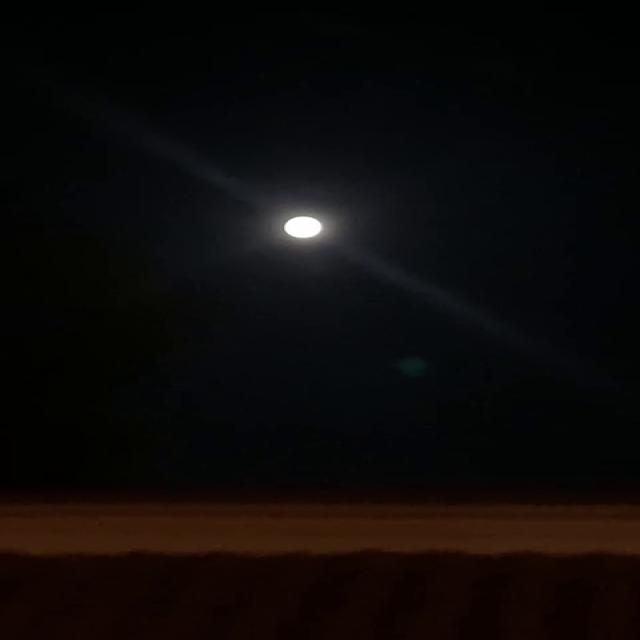moon: (278, 210, 328, 243)
